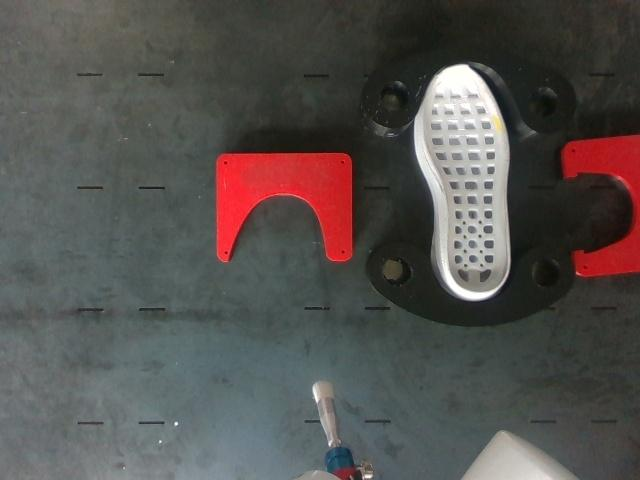shoes: (423, 65, 508, 292)
